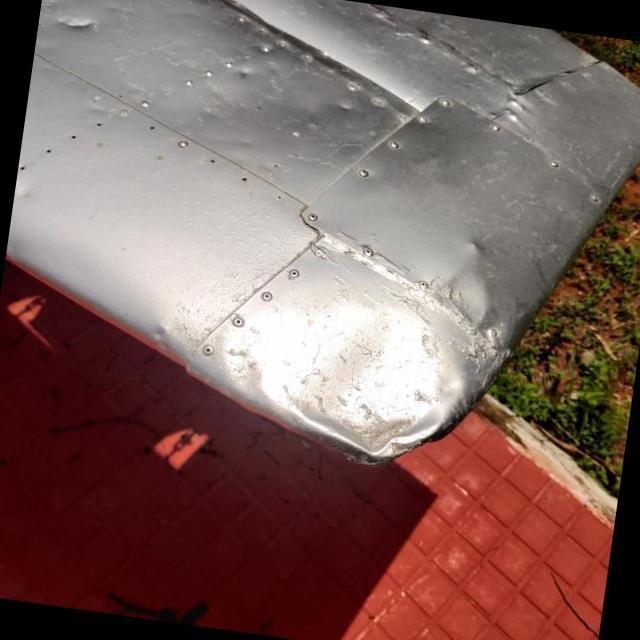Dent: (250, 277, 480, 498)
